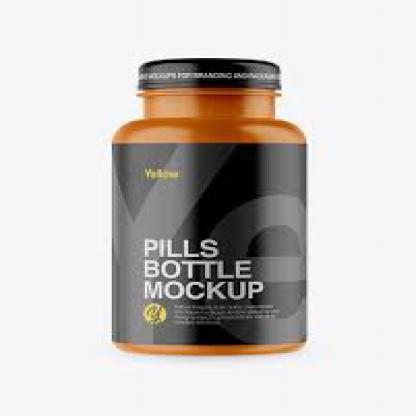jar: (113, 59, 306, 354)
